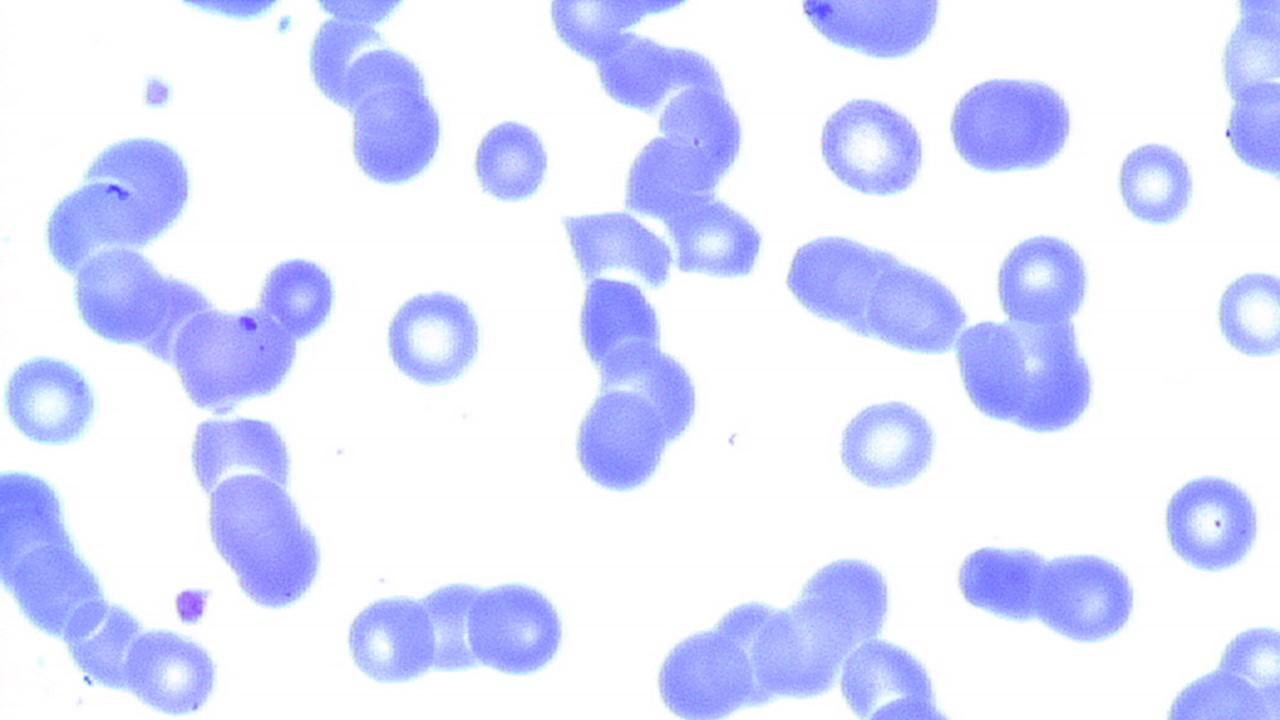Platelets: (1, 349, 101, 452), (1111, 136, 1201, 232), (469, 112, 552, 209), (257, 250, 344, 340), (169, 582, 216, 629), (135, 69, 178, 116), (274, 11, 293, 37)
RBC: (862, 255, 972, 361), (991, 226, 1097, 331), (120, 624, 225, 714)
WBC: (638, 541, 976, 719), (0, 456, 175, 719), (29, 120, 208, 353), (181, 404, 339, 620), (298, 0, 458, 195), (948, 252, 1104, 443), (565, 343, 710, 502), (558, 199, 681, 384), (780, 218, 938, 356), (168, 290, 320, 420), (944, 67, 1081, 180), (378, 277, 493, 396), (812, 89, 930, 203), (1153, 616, 1280, 719), (1155, 466, 1267, 578), (1217, 0, 1280, 199), (864, 251, 972, 364), (831, 391, 945, 497), (988, 223, 1100, 330), (1032, 544, 1142, 650), (465, 575, 574, 681), (0, 349, 108, 453), (790, 1, 954, 68), (340, 585, 440, 691), (121, 624, 226, 718), (950, 536, 1052, 627), (1110, 132, 1198, 233), (467, 113, 557, 209), (414, 573, 490, 675), (1213, 262, 1279, 366), (163, 0, 294, 29)
